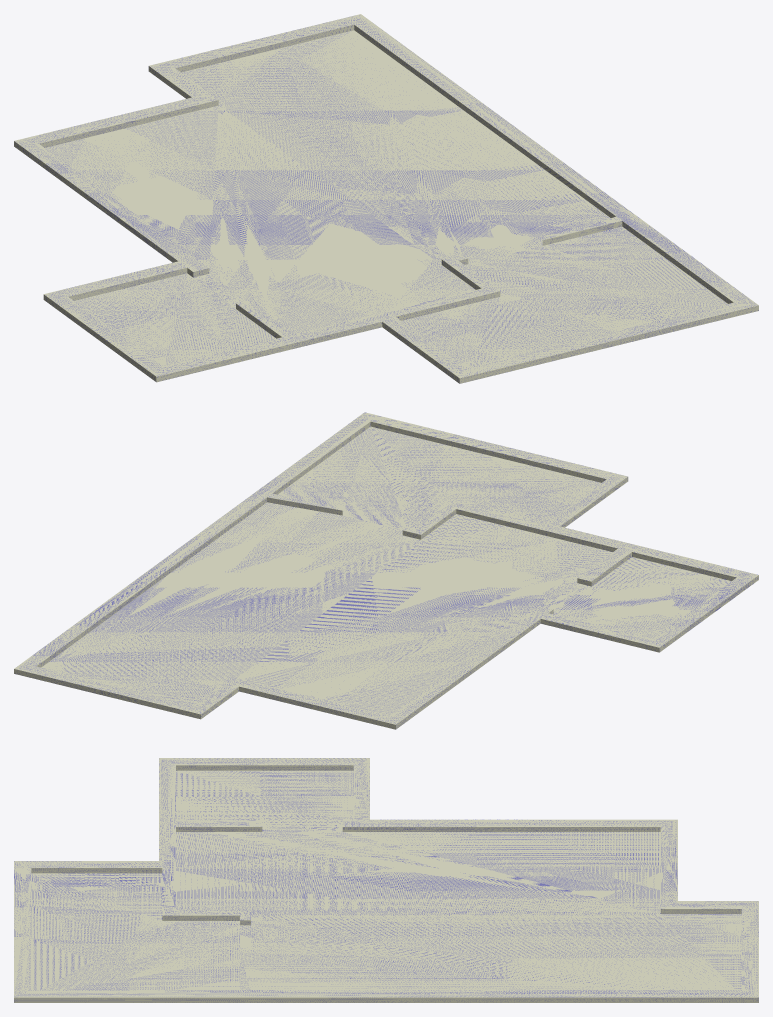
File: mhw814m1.dae
The picture shows the model from 3 angles, top to bottom: view 1: azimuth 30°, elevation 25°; view 2: azimuth 150°, elevation 25°; view 3: azimuth 270°, elevation 25°; orthographic projection. The views are drawn at different scales.
Parts seen in each view (by area): view 1: SketchUp; view 2: SketchUp; view 3: SketchUp.
Part boxes in pixels (box(x1,y1,x2,y2)): SketchUp: box(14, 14, 758, 383); SketchUp: box(14, 412, 758, 729); SketchUp: box(14, 758, 758, 1002).
Bounding box in the file's own units: 7896 × 10368 × 80.
